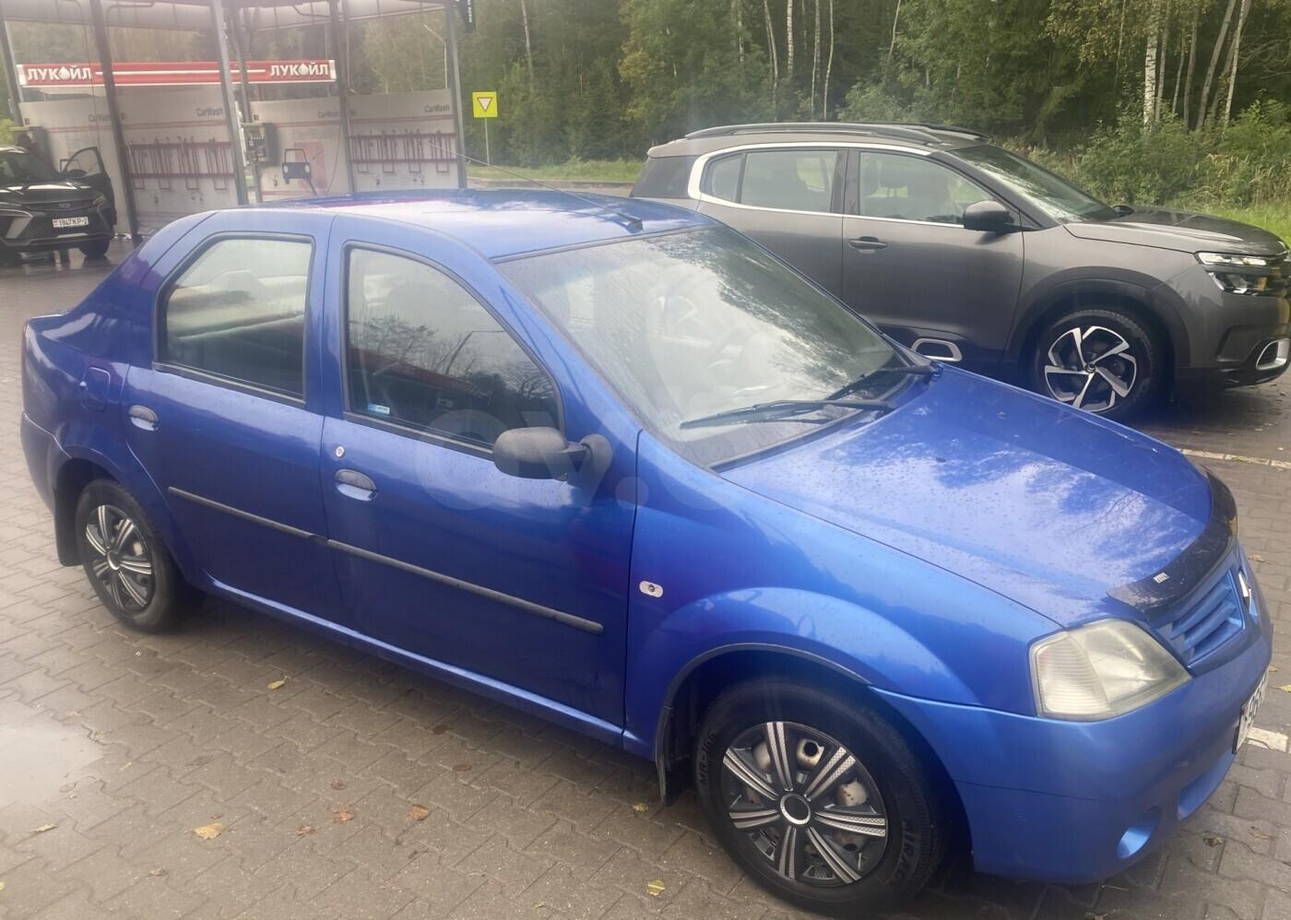Logan_2004-2009: (12, 182, 1281, 901)
